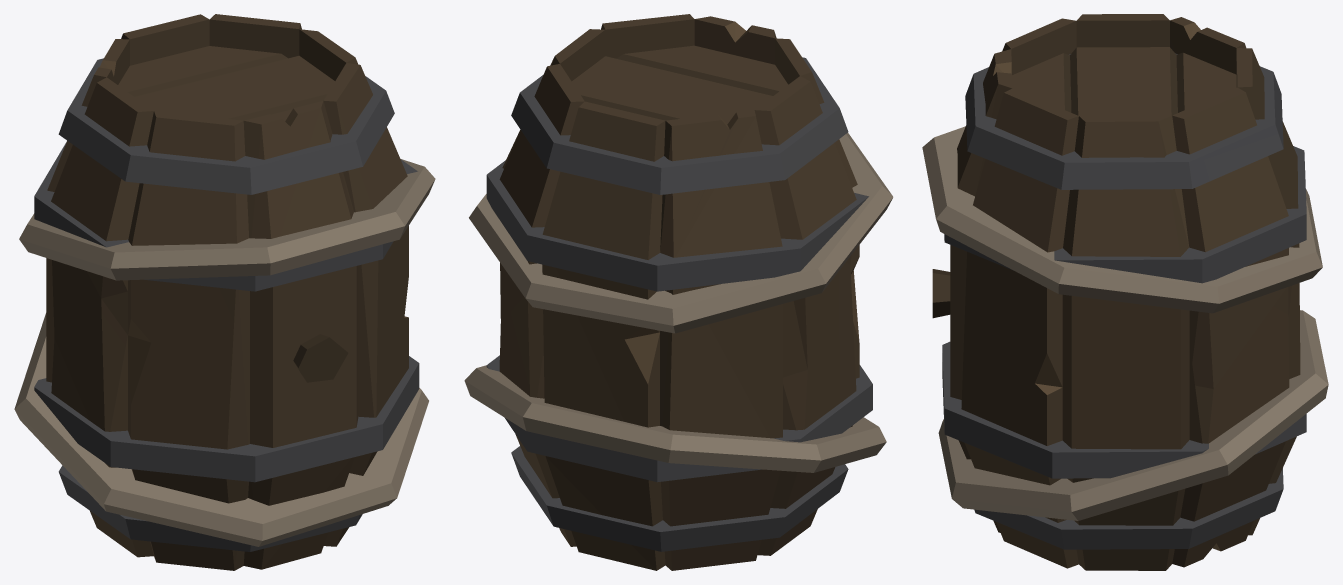
The model's file is SM_Veh_Extra_Barrel_01.glb.
The picture shows the model from 3 angles, left to right: view 1: azimuth 30°, elevation 25°; view 2: azimuth 150°, elevation 25°; view 3: azimuth 270°, elevation 25°; orthographic projection.
Visible parts, largest first — view 1: SM_Veh_Extra_Barrel_01; view 2: SM_Veh_Extra_Barrel_01; view 3: SM_Veh_Extra_Barrel_01.
Part boxes in pixels (x1=…): SM_Veh_Extra_Barrel_01: x1=14, y1=14, x2=435, y2=570; SM_Veh_Extra_Barrel_01: x1=464, y1=14, x2=893, y2=570; SM_Veh_Extra_Barrel_01: x1=922, y1=14, x2=1328, y2=570.
Bounding box in the file's own units: 0.0114 × 0.0137 × 0.0112.
